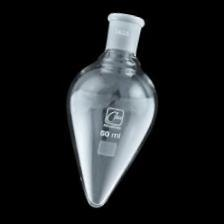Pear shaped flask: (54, 8, 164, 209)
